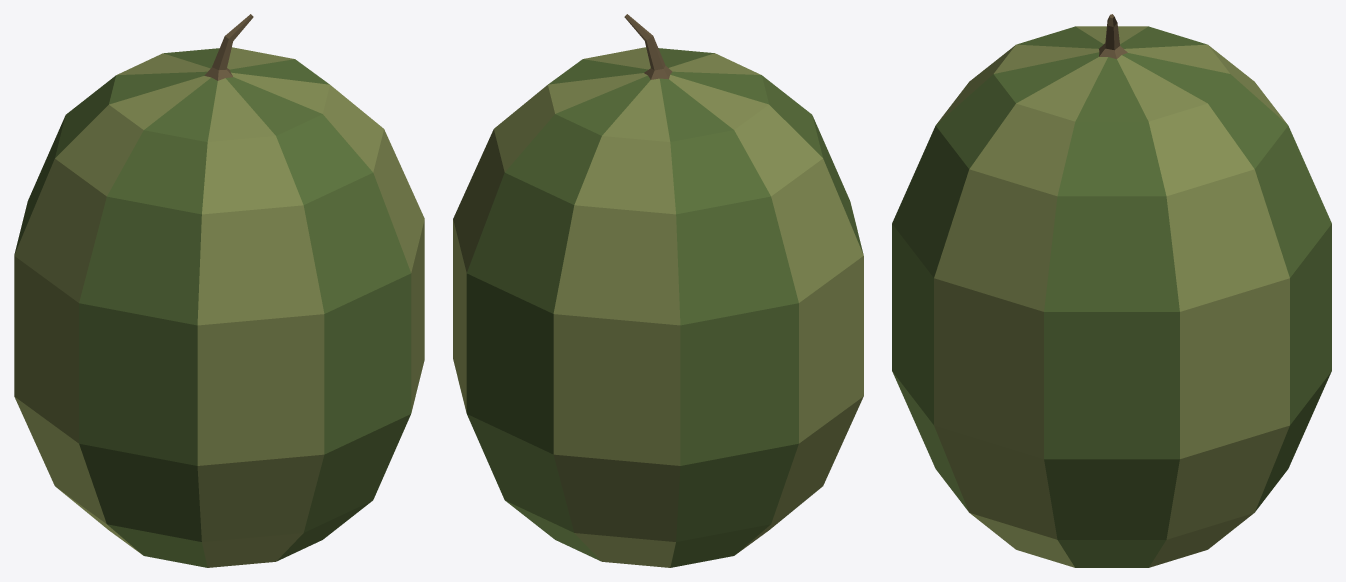
Rendered from SM_Envr_Nature_Farm_Vegetable_Watermelon.fbx.
The picture shows the model from 3 angles, left to right: view 1: azimuth 30°, elevation 25°; view 2: azimuth 150°, elevation 25°; view 3: azimuth 270°, elevation 25°; orthographic projection. The views are drawn at different scales.
Visible parts, largest first — view 1: SM_Envr_Nature_Farm_Vegetable_Watermelon; view 2: SM_Envr_Nature_Farm_Vegetable_Watermelon; view 3: SM_Envr_Nature_Farm_Vegetable_Watermelon.
Part boxes in pixels (x1,y1,x2,y2): SM_Envr_Nature_Farm_Vegetable_Watermelon: [14, 14, 424, 567]; SM_Envr_Nature_Farm_Vegetable_Watermelon: [453, 14, 863, 567]; SM_Envr_Nature_Farm_Vegetable_Watermelon: [892, 14, 1331, 567].
Size of the model in its own units: 19.78 by 28.53 by 20.8.
